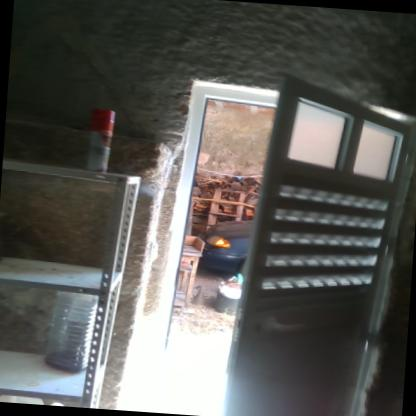semi: (145, 63, 415, 415)
